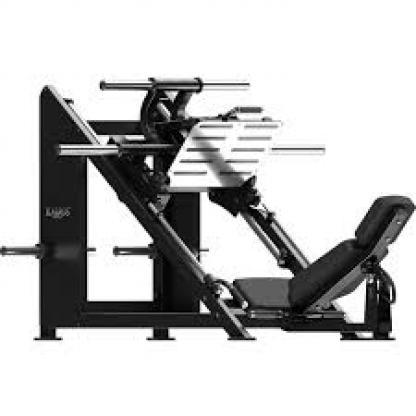leg press: (2, 53, 414, 380)
